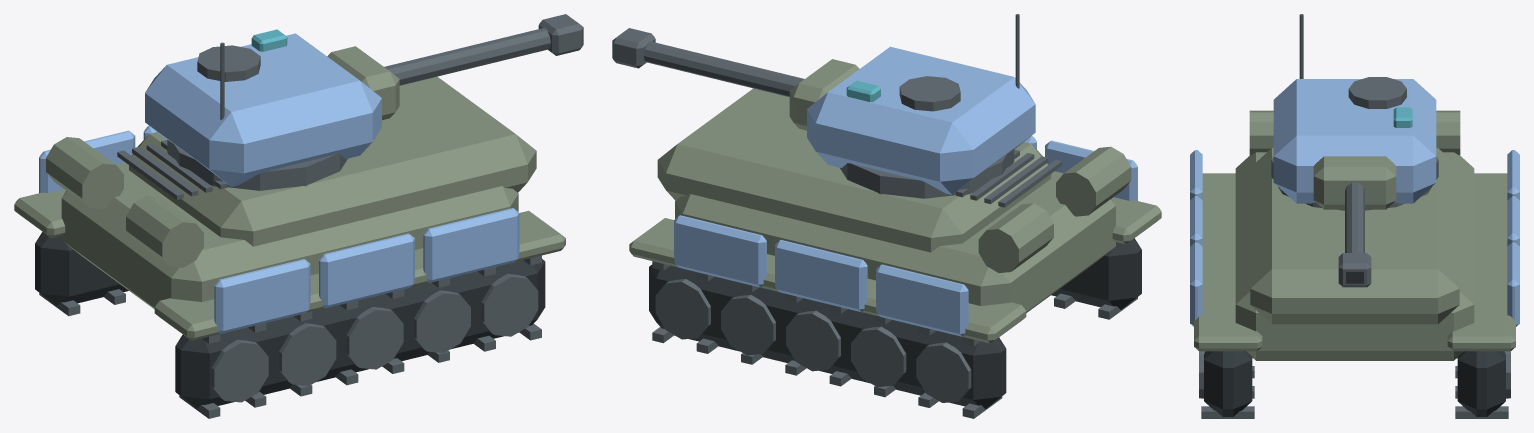
The model's file is tank.glb.
The picture shows the model from 3 angles, left to right: view 1: azimuth 30°, elevation 25°; view 2: azimuth 150°, elevation 25°; view 3: azimuth 270°, elevation 25°; orthographic projection. The views are drawn at different scales.
Parts seen in each view (by area): view 1: Armor, TeamColor, Steel, Tracks, Optics; view 2: Armor, TeamColor, Steel, Tracks, Optics; view 3: Armor, TeamColor, Steel, Tracks, Optics.
Part boxes in pixels (<box>): Armor: <box>14,46,565,340</box>; TeamColor: <box>39,33,519,333</box>; Steel: <box>39,14,583,418</box>; Tracks: <box>35,232,545,408</box>; Optics: <box>251,29,287,51</box>; Armor: <box>629,59,1161,343</box>; TeamColor: <box>674,46,1137,336</box>; Steel: <box>612,14,1137,418</box>; Tracks: <box>649,238,1141,408</box>; Optics: <box>846,80,880,101</box>; Armor: <box>1194,110,1515,360</box>; TeamColor: <box>1190,79,1519,326</box>; Steel: <box>1199,14,1510,418</box>; Tracks: <box>1204,271,1505,416</box>; Optics: <box>1393,107,1412,127</box>.
Bounding box in the file's own units: 3.93 × 2.51 × 2.6.
